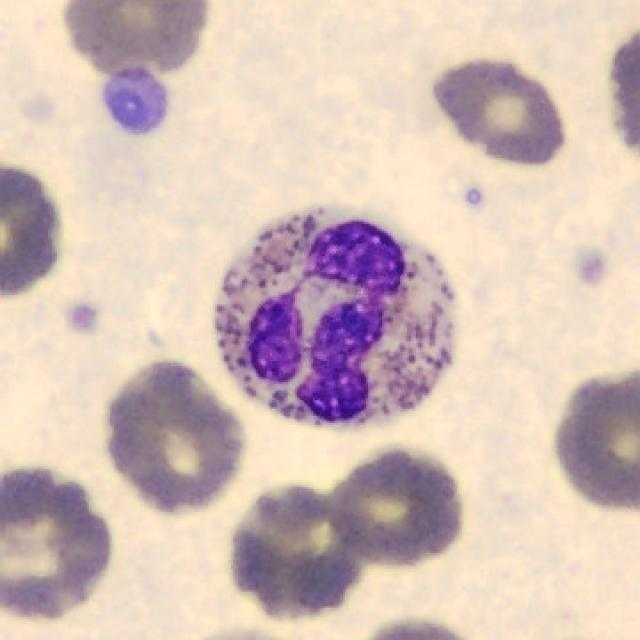Neutrofilo segmentado: (212, 206, 457, 428)
